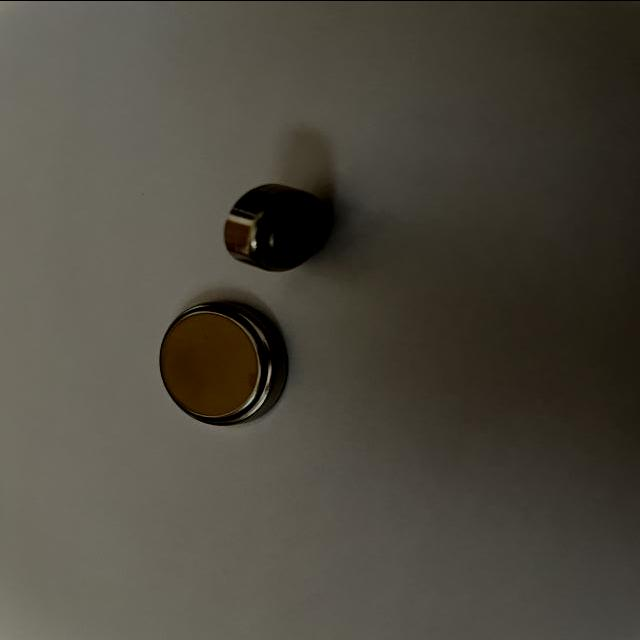COIN: (160, 298, 288, 427), (224, 180, 330, 274)
